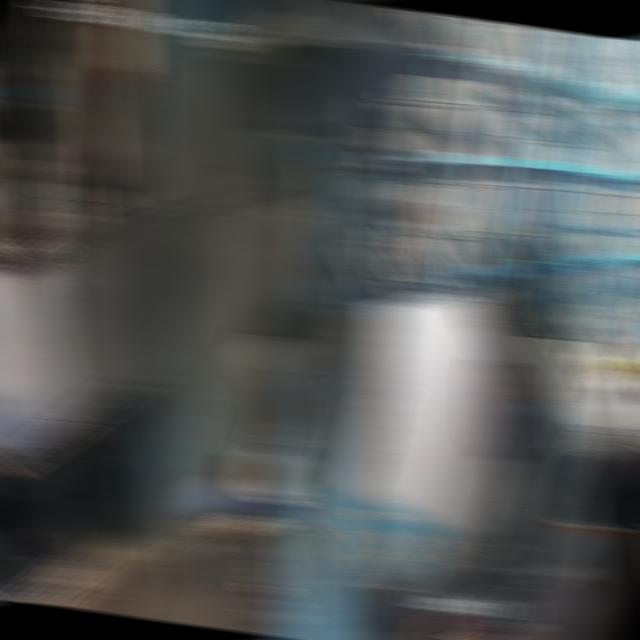cement_mixer_truck: (200, 294, 637, 640)
swing_chute: (260, 122, 376, 344)
